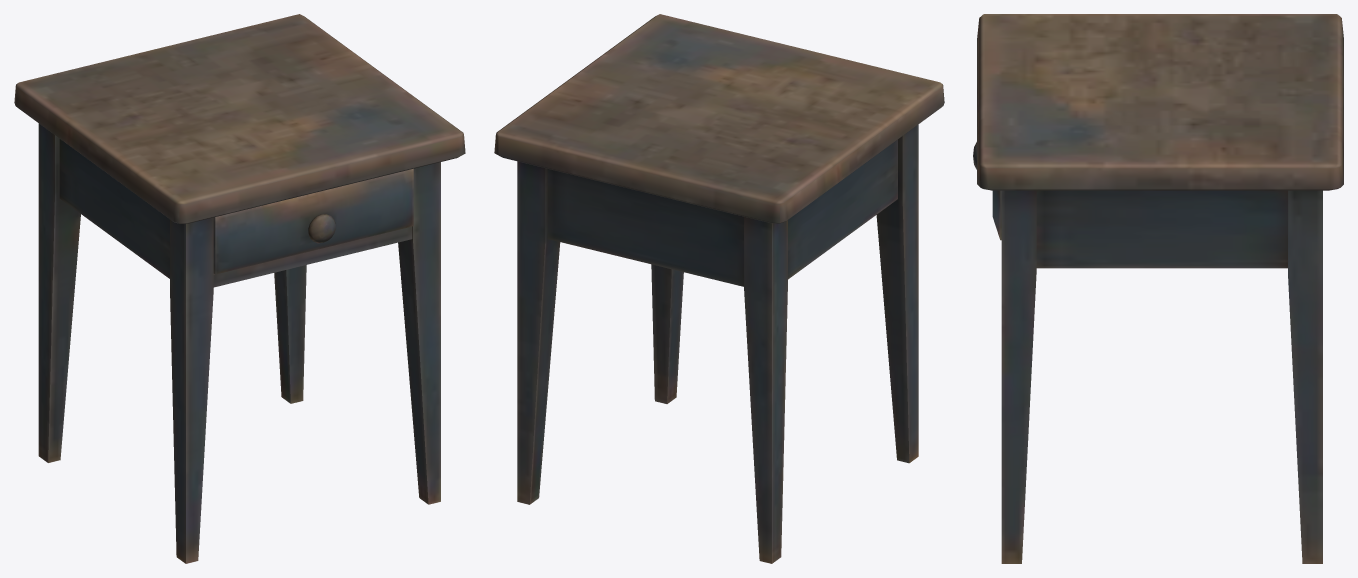
The model's file is bathCabinet.glb.
3 renders of one model, left to right at view 1: azimuth 30°, elevation 25°; view 2: azimuth 150°, elevation 25°; view 3: azimuth 270°, elevation 25°, orthographic. The views are drawn at different scales.
Visible parts, largest first — view 1: painted_wooden_nightstand, painted_wooden_nightstand_drawer; view 2: painted_wooden_nightstand; view 3: painted_wooden_nightstand, painted_wooden_nightstand_drawer.
Part boxes in pixels (bbox=[...]): painted_wooden_nightstand: bbox=[14, 14, 465, 563]; painted_wooden_nightstand_drawer: bbox=[213, 168, 413, 274]; painted_wooden_nightstand: bbox=[494, 14, 944, 563]; painted_wooden_nightstand: bbox=[977, 14, 1343, 563]; painted_wooden_nightstand_drawer: bbox=[973, 142, 1001, 240].
Size of the model in its own units: 0.5045 by 0.6155 by 0.5087.
Materials: 1 (1 with a texture image).
